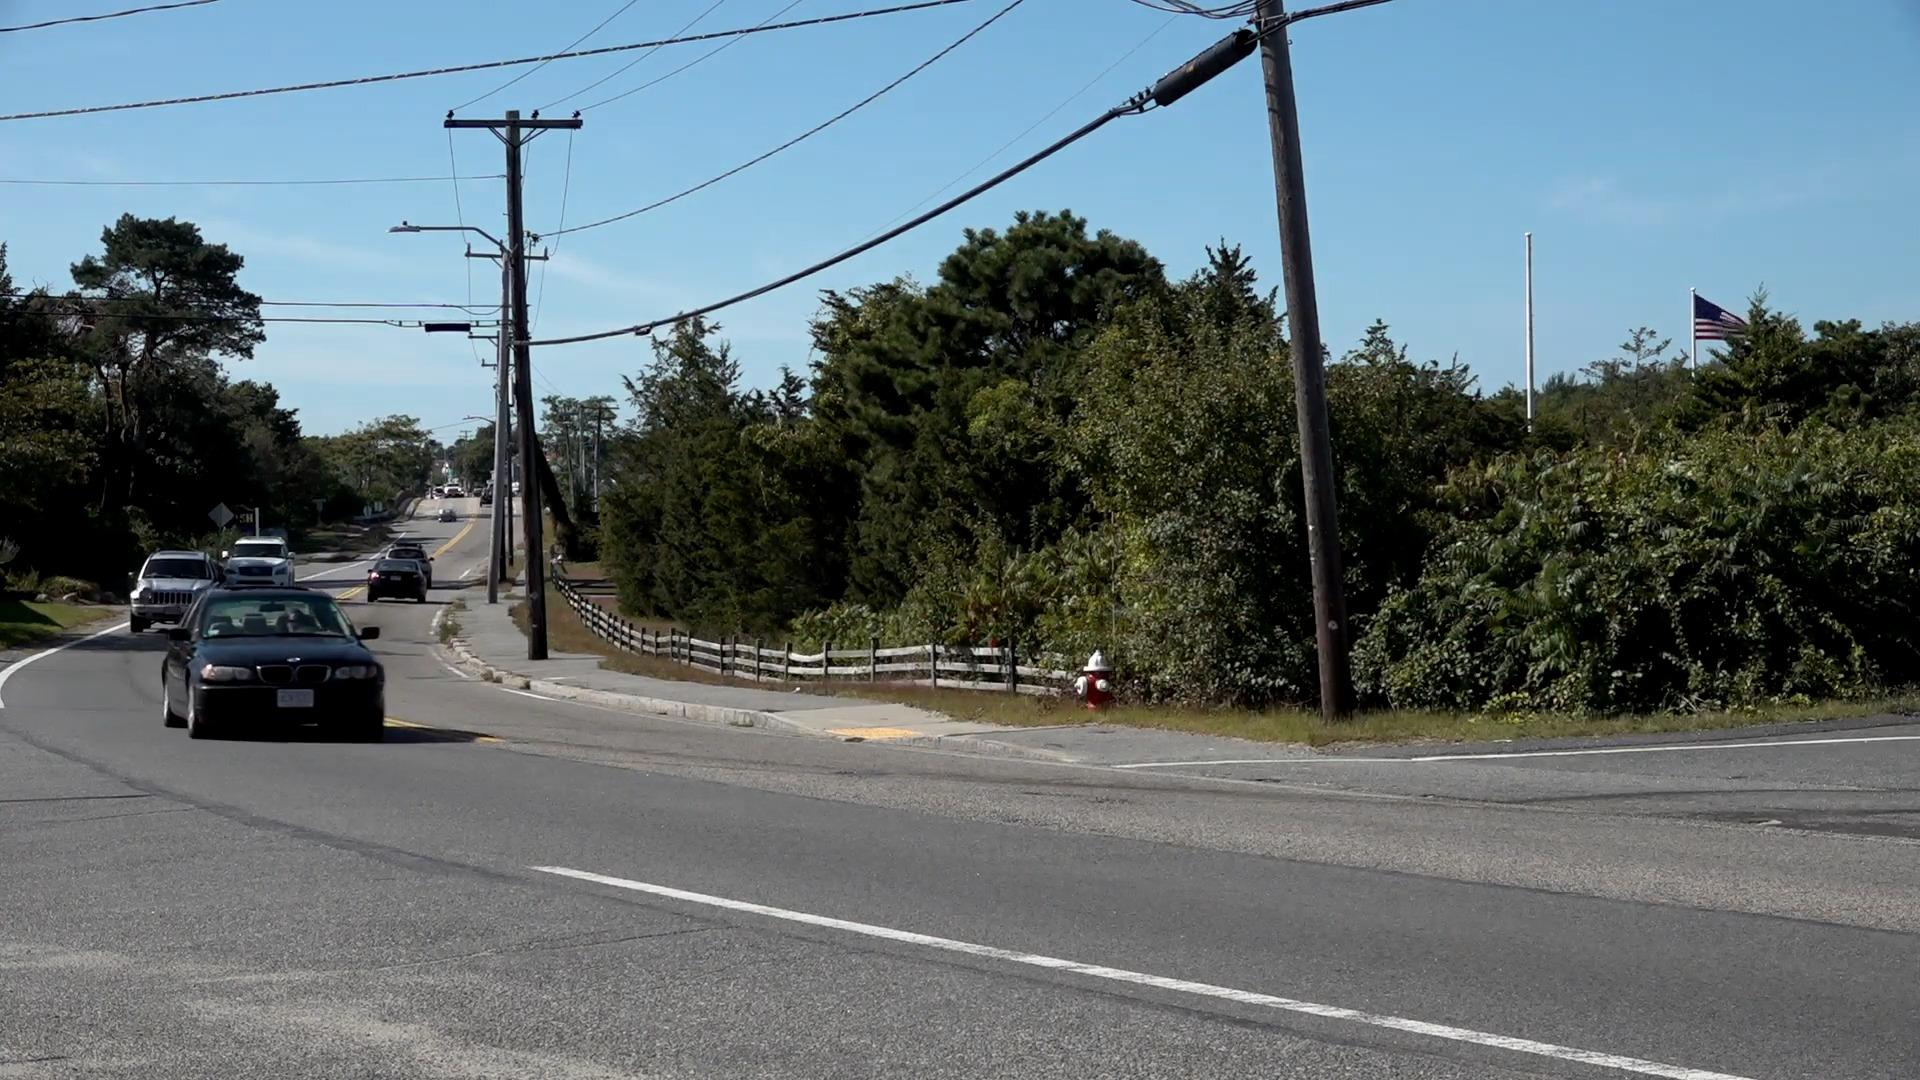sedans: (159, 588, 390, 746)
suv: (135, 546, 211, 629)
